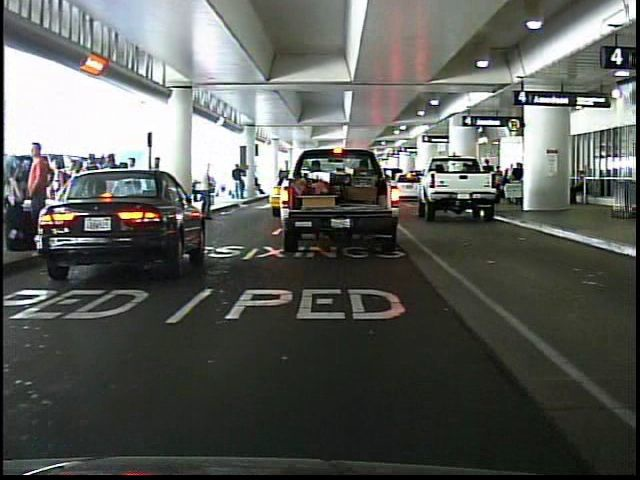person: (26, 138, 53, 254), (148, 153, 169, 219), (200, 159, 219, 221), (233, 162, 251, 199)
